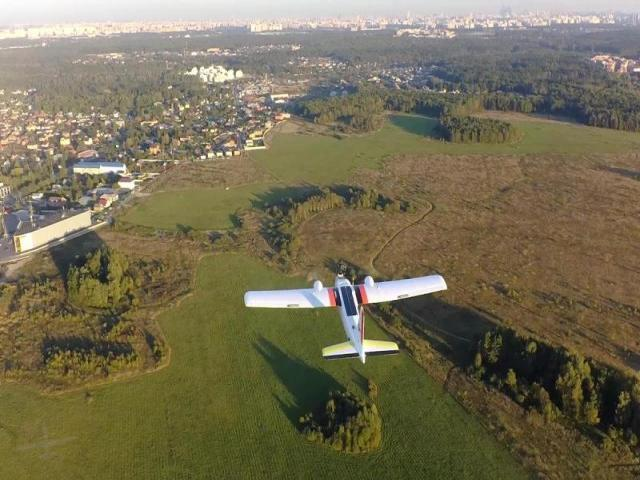hedef: (243, 263, 449, 368)
